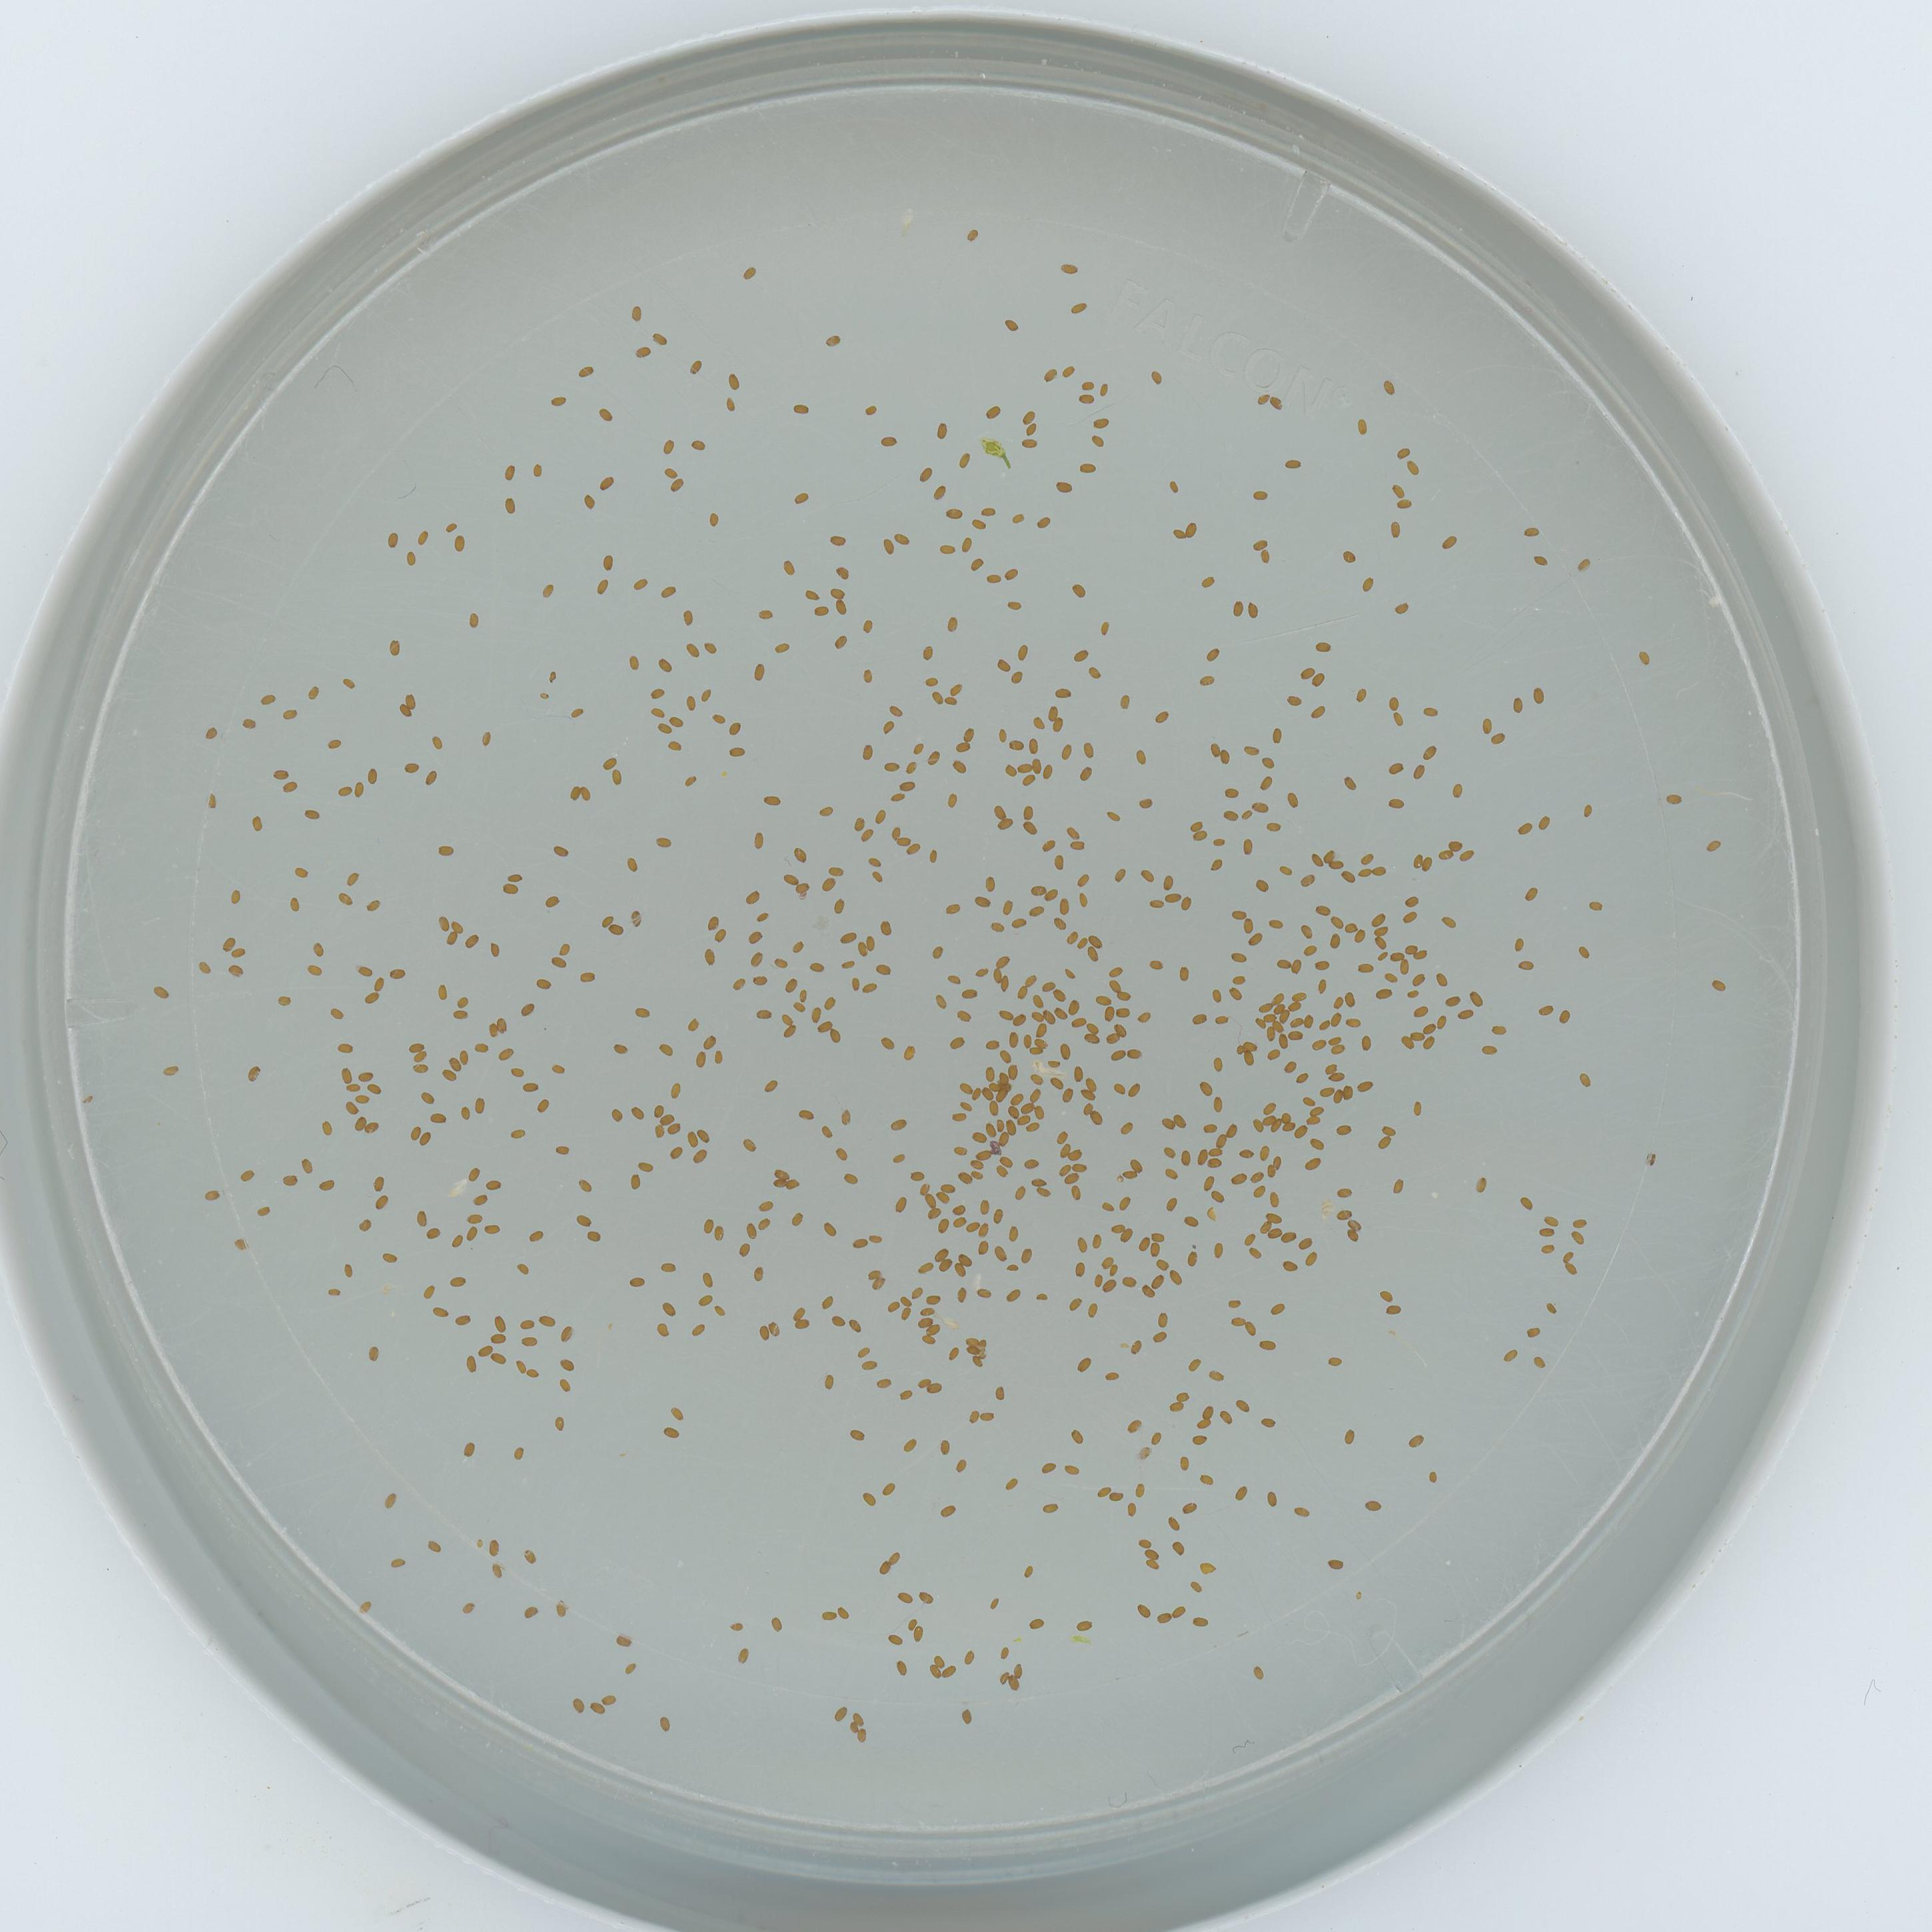seed: (840, 925, 860, 945), (501, 494, 520, 513), (660, 1299, 679, 1318), (1039, 366, 1058, 386), (692, 1049, 709, 1070), (1069, 299, 1092, 315), (626, 303, 646, 320), (655, 656, 674, 674), (747, 925, 766, 943), (750, 663, 770, 681), (883, 757, 902, 775), (955, 453, 975, 471), (575, 1208, 593, 1228), (699, 1270, 718, 1288), (518, 1000, 538, 1017), (630, 1102, 648, 1122), (1529, 686, 1548, 704), (1047, 855, 1067, 872), (1251, 798, 1270, 816), (1401, 893, 1421, 911), (1284, 692, 1304, 709), (1003, 596, 1023, 614), (1168, 525, 1187, 543), (1003, 1284, 1023, 1302), (1168, 1539, 1187, 1557), (1228, 1168, 1247, 1185), (1302, 1154, 1322, 1171), (1373, 984, 1392, 1001), (1166, 1269, 1185, 1286), (1279, 1254, 1299, 1272), (1014, 1246, 1033, 1263), (1099, 1001, 1116, 1021), (1042, 1007, 1060, 1026), (832, 897, 849, 915), (600, 554, 617, 571), (386, 639, 403, 656), (745, 890, 763, 908), (651, 329, 669, 347), (662, 437, 679, 455), (702, 639, 720, 656), (931, 483, 948, 501), (690, 435, 708, 453), (830, 584, 847, 602), (764, 791, 782, 809), (540, 582, 557, 600), (501, 462, 518, 479), (702, 947, 720, 964), (518, 1315, 536, 1332), (497, 1042, 515, 1060), (948, 1033, 966, 1051), (520, 1548, 538, 1566), (895, 1589, 913, 1606), (892, 1113, 909, 1131), (821, 1219, 839, 1237), (318, 1118, 336, 1136), (449, 1272, 467, 1290), (520, 1332, 538, 1350), (686, 1016, 704, 1033), (901, 1042, 918, 1060), (893, 1194, 911, 1212), (462, 1353, 479, 1371), (370, 1173, 387, 1191), (297, 1155, 315, 1173), (1017, 803, 1035, 821), (1509, 695, 1527, 713), (1421, 743, 1438, 761), (1074, 764, 1092, 782), (1024, 736, 1042, 754), (1060, 258, 1077, 276), (1440, 533, 1458, 550), (1283, 793, 1300, 810), (1053, 476, 1070, 494), (1086, 929, 1104, 947), (1313, 901, 1330, 918), (1477, 718, 1495, 736), (1522, 522, 1539, 540), (1369, 909, 1387, 927), (1079, 741, 1097, 759), (1299, 872, 1316, 890), (1352, 418, 1369, 435), (1338, 869, 1355, 886), (1637, 649, 1654, 667), (1182, 1210, 1200, 1228), (1281, 1056, 1299, 1074), (1028, 991, 1046, 1008), (1039, 1499, 1056, 1516), (1269, 1299, 1286, 1316), (1233, 1394, 1251, 1412), (1070, 1260, 1088, 1277), (1152, 1309, 1169, 1327), (1191, 1612, 1208, 1629), (1258, 1334, 1276, 1352), (1263, 1490, 1281, 1507), (1134, 1601, 1152, 1619), (632, 575, 651, 591), (833, 600, 853, 616), (950, 759, 970, 775), (793, 847, 812, 863), (334, 1037, 354, 1053), (614, 1633, 633, 1649), (663, 1422, 683, 1438), (426, 1109, 446, 1125), (448, 1053, 464, 1072), (959, 1251, 975, 1270), (1019, 821, 1039, 837), (1228, 947, 1247, 962), (1408, 764, 1428, 780), (1196, 1077, 1215, 1093), (1074, 1355, 1093, 1371), (1028, 1171, 1047, 1187), (1394, 959, 1414, 975), (1263, 1208, 1283, 1224), (952, 740, 973, 754), (745, 1221, 759, 1242), (271, 766, 288, 782), (860, 745, 878, 761), (681, 695, 699, 711), (219, 934, 235, 952), (437, 842, 455, 858), (384, 531, 402, 547), (598, 474, 616, 490), (918, 464, 934, 481), (945, 506, 962, 522), (881, 432, 899, 448), (669, 713, 686, 729), (945, 899, 961, 916), (934, 421, 950, 439), (828, 863, 846, 879), (874, 809, 892, 824), (428, 734, 446, 750), (633, 343, 651, 359), (888, 702, 906, 718), (421, 770, 439, 786), (580, 494, 598, 510), (879, 918, 895, 936), (258, 690, 276, 706), (402, 759, 419, 775), (830, 531, 847, 547), (464, 931, 481, 947), (793, 400, 810, 416), (939, 540, 957, 556), (310, 941, 327, 957), (487, 939, 502, 957), (568, 704, 586, 720), (893, 529, 911, 545), (202, 725, 219, 741), (609, 770, 626, 786), (685, 642, 702, 658), (336, 892, 354, 908), (784, 872, 801, 888), (596, 407, 614, 423), (649, 686, 667, 702), (577, 363, 594, 379), (782, 559, 798, 577), (660, 584, 678, 600), (879, 538, 897, 554), (557, 939, 575, 955), (725, 373, 743, 389), (679, 609, 695, 626), (881, 720, 899, 736), (860, 830, 878, 846), (821, 878, 839, 893), (364, 768, 380, 786), (835, 564, 853, 580), (750, 833, 768, 849), (727, 720, 745, 736), (628, 909, 646, 925), (538, 1311, 556, 1327), (472, 1037, 490, 1053), (490, 1330, 508, 1346), (589, 1700, 607, 1716), (833, 1704, 849, 1721), (350, 1113, 366, 1131), (483, 1219, 499, 1237), (849, 1424, 867, 1440), (784, 977, 801, 993), (455, 1309, 472, 1325), (372, 1192, 389, 1208), (901, 1437, 918, 1453), (932, 993, 950, 1008), (757, 1215, 775, 1231), (821, 1608, 839, 1624), (688, 1320, 706, 1336), (559, 1355, 577, 1371), (821, 1373, 839, 1389), (465, 1208, 483, 1224), (909, 1166, 927, 1182), (557, 1325, 575, 1341), (633, 1003, 651, 1019), (471, 1095, 488, 1111), (522, 1603, 540, 1619), (660, 1258, 678, 1274), (380, 1491, 398, 1507), (881, 1481, 899, 1497), (833, 1145, 851, 1161), (425, 1223, 442, 1238), (886, 1631, 904, 1647), (655, 1320, 672, 1336), (862, 1490, 879, 1506), (432, 1304, 449, 1320), (318, 1175, 334, 1192), (770, 1615, 786, 1633), (628, 1274, 646, 1290), (460, 1442, 478, 1458), (892, 1660, 909, 1675), (522, 1077, 540, 1093), (916, 1589, 934, 1605), (936, 1438, 952, 1456), (736, 1647, 754, 1663), (702, 1031, 720, 1047), (862, 1357, 879, 1373), (570, 1697, 587, 1713), (492, 1315, 510, 1330), (584, 1228, 602, 1244), (464, 1164, 481, 1180), (639, 1155, 656, 1171), (697, 1290, 715, 1306), (669, 1081, 685, 1099), (448, 1233, 465, 1249), (508, 1122, 525, 1138), (695, 1125, 713, 1141), (782, 1023, 800, 1039), (800, 1104, 816, 1122), (699, 1215, 717, 1231), (892, 1148, 909, 1164), (925, 1203, 943, 1219), (934, 1215, 950, 1233), (741, 1136, 759, 1152), (524, 1366, 541, 1382), (326, 1283, 341, 1300), (485, 1541, 502, 1557), (828, 1026, 844, 1044), (925, 1288, 943, 1304), (552, 1601, 570, 1617), (159, 1060, 177, 1076), (957, 1079, 973, 1097), (957, 1097, 973, 1115), (1258, 755, 1276, 771), (1077, 458, 1095, 474), (1138, 869, 1155, 885), (1276, 863, 1293, 879), (1053, 685, 1070, 701), (1297, 663, 1315, 679), (1001, 317, 1019, 333), (1090, 414, 1108, 430), (1325, 932, 1343, 948), (1244, 600, 1260, 617), (1253, 878, 1270, 893), (991, 805, 1008, 821), (1359, 577, 1376, 593), (1182, 520, 1198, 538), (1008, 915, 1026, 931), (1440, 913, 1458, 929), (1389, 481, 1407, 497), (1242, 741, 1260, 757), (1516, 821, 1534, 837), (1049, 915, 1067, 931), (985, 403, 1003, 419), (994, 656, 1012, 672), (1157, 876, 1175, 892), (1039, 837, 1056, 853), (994, 950, 1012, 966), (1014, 644, 1031, 660), (1387, 520, 1403, 538), (1069, 582, 1086, 598), (1007, 738, 1024, 754), (1378, 379, 1396, 395), (1256, 775, 1274, 791), (1309, 704, 1327, 720), (1056, 743, 1074, 759), (1297, 924, 1315, 939), (1300, 941, 1318, 957), (1389, 713, 1407, 729), (1033, 513, 1051, 529), (1136, 796, 1154, 812), (1536, 816, 1553, 832), (1283, 456, 1300, 472), (1405, 458, 1421, 476), (1198, 573, 1215, 589), (1394, 497, 1412, 513), (1028, 881, 1046, 897), (1490, 732, 1507, 748), (1269, 727, 1284, 745), (1267, 915, 1284, 931), (1221, 809, 1238, 824), (1228, 600, 1246, 616), (1309, 672, 1327, 688), (1019, 407, 1037, 423), (1394, 442, 1412, 458), (1447, 782, 1465, 798), (1063, 823, 1079, 840), (1028, 715, 1046, 731), (1392, 600, 1410, 616), (1238, 918, 1256, 934), (1083, 947, 1100, 962), (1329, 858, 1346, 874), (1307, 853, 1325, 869), (1313, 957, 1330, 973), (1120, 1272, 1138, 1288), (984, 1033, 1001, 1049), (1525, 1323, 1543, 1339), (1389, 1177, 1407, 1192), (1474, 1175, 1490, 1192), (1341, 991, 1359, 1007), (1231, 1484, 1249, 1500), (1444, 993, 1461, 1008), (1116, 1118, 1134, 1134), (1490, 1021, 1507, 1037), (1070, 1235, 1088, 1251), (1224, 1295, 1242, 1311), (1099, 1198, 1116, 1214), (1467, 989, 1484, 1005), (1407, 1431, 1424, 1447), (991, 1385, 1008, 1401), (1364, 1497, 1382, 1513), (1198, 1559, 1215, 1575), (1334, 1182, 1352, 1198), (1191, 1008, 1207, 1026), (1327, 1555, 1345, 1571), (1065, 1295, 1083, 1311), (1074, 1617, 1092, 1633), (1150, 1224, 1166, 1242), (1180, 1500, 1198, 1516), (1569, 1228, 1587, 1244), (1339, 1428, 1357, 1444), (1026, 1617, 1044, 1633), (1208, 1054, 1226, 1070), (1148, 1272, 1166, 1288), (1297, 1233, 1315, 1249), (1008, 1663, 1026, 1679), (1164, 1514, 1182, 1530), (1254, 1145, 1272, 1161), (1003, 1224, 1021, 1240), (1412, 1000, 1430, 1016), (1157, 1115, 1175, 1131), (1502, 1346, 1520, 1362), (1265, 1044, 1281, 1062), (1562, 1260, 1580, 1276), (1093, 989, 1111, 1005), (1382, 970, 1399, 985), (1357, 1033, 1375, 1049), (1150, 1329, 1168, 1345), (1456, 1005, 1474, 1021), (1010, 1010, 1028, 1026), (1200, 1118, 1217, 1134), (1146, 1430, 1164, 1445), (1334, 1120, 1352, 1136), (1102, 1368, 1120, 1384), (1237, 1143, 1254, 1159), (1242, 1320, 1260, 1336), (1102, 1030, 1120, 1046), (1187, 1578, 1205, 1594), (1247, 1665, 1265, 1681), (1265, 1191, 1283, 1207), (1113, 1021, 1131, 1037), (1208, 1095, 1226, 1111), (1088, 1109, 1106, 1125), (1269, 1152, 1284, 1169), (1088, 1230, 1106, 1246), (1051, 1003, 1069, 1019), (1249, 1184, 1267, 1200), (1288, 1028, 1306, 1044), (1113, 1003, 1131, 1019), (1334, 1203, 1352, 1219), (609, 1104, 623, 1123), (628, 1171, 642, 1191), (1070, 648, 1090, 662), (1445, 837, 1465, 851), (961, 536, 975, 556), (1327, 1069, 1346, 1083), (479, 731, 495, 747), (343, 872, 359, 888), (292, 865, 308, 881), (550, 393, 566, 409), (402, 550, 418, 566), (651, 706, 667, 722), (918, 644, 934, 660), (750, 950, 766, 966), (594, 579, 610, 594), (304, 685, 320, 701), (340, 676, 356, 692), (414, 529, 430, 545), (598, 911, 614, 927), (303, 807, 318, 823), (929, 690, 945, 706), (451, 536, 467, 552), (759, 607, 775, 623), (906, 842, 922, 858), (667, 740, 683, 755), (465, 612, 481, 628), (248, 817, 264, 833), (451, 918, 467, 934), (704, 915, 720, 931), (729, 745, 745, 761), (833, 633, 849, 649), (722, 396, 738, 412), (336, 784, 352, 800), (602, 755, 617, 771), (826, 331, 842, 347), (860, 617, 876, 633), (580, 786, 596, 801), (775, 640, 791, 656), (625, 858, 640, 874), (741, 265, 757, 281), (945, 793, 961, 809), (435, 915, 451, 931), (281, 780, 297, 796), (869, 870, 885, 886), (819, 803, 835, 819), (656, 722, 672, 738), (791, 938, 807, 954), (925, 847, 941, 863), (863, 402, 879, 418), (867, 853, 883, 869), (683, 773, 699, 789), (669, 476, 685, 492), (395, 702, 410, 718), (566, 786, 582, 801), (203, 794, 219, 810), (694, 1146, 709, 1162), (327, 1005, 343, 1021), (669, 1143, 685, 1159), (817, 1017, 833, 1033), (915, 1373, 931, 1389), (669, 1403, 685, 1419), (878, 1560, 893, 1576), (941, 1665, 957, 1681), (419, 1088, 435, 1104), (356, 1217, 372, 1233), (426, 1537, 442, 1553), (844, 1169, 860, 1185), (832, 1313, 847, 1329), (557, 1376, 573, 1392), (464, 1224, 479, 1240), (789, 1210, 805, 1226), (791, 1304, 807, 1320), (487, 1177, 502, 1192), (472, 1191, 488, 1207), (819, 1123, 835, 1139), (759, 1196, 775, 1212), (909, 1626, 925, 1642), (237, 1166, 253, 1182), (853, 1233, 869, 1249), (658, 1040, 674, 1056), (757, 1005, 773, 1021), (849, 1316, 865, 1332), (879, 1033, 895, 1049), (847, 975, 863, 991), (552, 1415, 568, 1431), (380, 1249, 396, 1265), (931, 1651, 947, 1667), (441, 1067, 456, 1083), (152, 982, 168, 998), (750, 1265, 766, 1281), (656, 1716, 672, 1732), (421, 1283, 437, 1299), (389, 966, 405, 982), (764, 1077, 780, 1093), (513, 1357, 529, 1373), (435, 984, 451, 1000), (869, 1230, 885, 1246), (515, 1260, 531, 1276), (340, 1261, 356, 1277), (510, 1063, 525, 1079), (255, 1201, 271, 1217), (364, 1345, 380, 1361), (405, 1123, 421, 1139), (281, 1171, 297, 1187), (370, 975, 386, 991), (821, 1293, 837, 1309), (527, 1226, 543, 1242), (453, 993, 469, 1008), (863, 978, 879, 994), (389, 1553, 405, 1569), (939, 1502, 955, 1518), (888, 1550, 904, 1566), (856, 1343, 872, 1359), (414, 1208, 430, 1224), (494, 1016, 510, 1031), (651, 1100, 667, 1116), (456, 1104, 472, 1120), (729, 1619, 745, 1635), (839, 1109, 855, 1125), (203, 1185, 219, 1201), (713, 1224, 729, 1240), (510, 1445, 525, 1461), (899, 1292, 915, 1307), (490, 1562, 506, 1578), (338, 1065, 354, 1081), (246, 1063, 262, 1079), (952, 1141, 968, 1157), (1023, 421, 1039, 437), (1387, 761, 1403, 777), (998, 901, 1014, 916), (1265, 821, 1281, 837), (1198, 672, 1214, 688), (1523, 886, 1539, 902), (1315, 639, 1330, 655), (987, 918, 1003, 934), (1058, 363, 1074, 379), (1251, 487, 1267, 502), (1085, 663, 1100, 679), (1511, 936, 1527, 952), (982, 878, 998, 893), (1352, 688, 1368, 704), (1460, 849, 1476, 865), (1357, 867, 1373, 883), (1359, 849, 1375, 865), (1074, 893, 1090, 909), (1223, 784, 1238, 800), (968, 557, 984, 573), (1154, 708, 1169, 724), (980, 502, 996, 518), (1587, 897, 1603, 913), (1132, 748, 1148, 764), (975, 893, 991, 909), (1054, 899, 1070, 915), (1095, 380, 1111, 396), (1115, 694, 1131, 709), (1341, 548, 1357, 564), (1580, 803, 1596, 819), (1178, 895, 1194, 911), (1203, 646, 1219, 662), (1667, 791, 1683, 807), (1037, 764, 1053, 780), (1343, 918, 1359, 934), (1401, 909, 1417, 925), (1371, 863, 1387, 879), (1095, 621, 1111, 637), (1352, 927, 1368, 943), (1146, 368, 1162, 384), (1254, 389, 1270, 405), (1203, 743, 1219, 759), (1164, 478, 1180, 494), (1238, 839, 1254, 855), (1341, 775, 1357, 791), (1322, 847, 1338, 863), (961, 727, 977, 743), (1433, 971, 1449, 987), (1106, 1219, 1122, 1235), (1345, 1012, 1361, 1028), (1329, 1008, 1345, 1024), (1242, 1230, 1258, 1246), (1424, 1468, 1440, 1484), (993, 1244, 1008, 1260), (1069, 1428, 1085, 1444), (1136, 1532, 1152, 1548), (1711, 977, 1727, 993), (1302, 1249, 1318, 1265), (1223, 1120, 1238, 1136), (1560, 1247, 1576, 1263), (1207, 1368, 1223, 1384), (1260, 1414, 1276, 1430), (1530, 1353, 1546, 1369), (1039, 1458, 1054, 1474), (1028, 1069, 1044, 1085), (1228, 1313, 1244, 1329), (1136, 1008, 1152, 1024), (1212, 1131, 1228, 1146), (1247, 1116, 1263, 1132), (975, 1238, 991, 1254), (1481, 1039, 1497, 1054), (1171, 1603, 1187, 1619), (1357, 1076, 1373, 1092), (1026, 1085, 1042, 1100), (998, 1047, 1014, 1063), (1380, 1120, 1396, 1136), (1408, 1099, 1424, 1115), (1226, 985, 1242, 1001), (1058, 1086, 1074, 1102), (1162, 1166, 1178, 1182), (1185, 1355, 1201, 1371), (975, 1196, 991, 1212), (1435, 1012, 1451, 1028), (1200, 1173, 1215, 1189), (1053, 1127, 1069, 1143), (1125, 1417, 1141, 1433), (1198, 1470, 1214, 1486), (1173, 1387, 1189, 1403), (1046, 1074, 1062, 1090), (1208, 1187, 1224, 1203), (1378, 1286, 1394, 1302), (1217, 1408, 1233, 1424), (1173, 1113, 1189, 1129), (1116, 1192, 1132, 1208), (1039, 977, 1054, 993), (1327, 1352, 1343, 1368), (1003, 1476, 1019, 1491), (1023, 1154, 1039, 1169), (991, 1207, 1007, 1223), (1293, 1504, 1309, 1520), (1208, 987, 1224, 1003), (1578, 1069, 1594, 1085), (1127, 1081, 1143, 1097), (1012, 1184, 1028, 1200), (985, 1596, 1001, 1612), (1100, 1277, 1116, 1293), (1198, 1403, 1214, 1419), (1184, 1249, 1200, 1265), (1125, 1044, 1141, 1060), (1131, 1483, 1146, 1499), (1109, 1079, 1125, 1095), (1327, 993, 1343, 1008), (985, 1099, 1001, 1115), (1208, 1240, 1224, 1256), (1146, 1242, 1162, 1258), (1177, 1148, 1192, 1164), (1254, 1217, 1270, 1233), (1106, 975, 1122, 991), (1077, 1100, 1093, 1116), (1134, 1445, 1150, 1461), (1007, 1062, 1023, 1077), (1251, 1014, 1267, 1030), (1300, 1010, 1316, 1026), (1644, 1150, 1660, 1166), (1277, 1008, 1293, 1024), (754, 909, 771, 924), (626, 656, 644, 671), (858, 669, 876, 683), (899, 778, 916, 793), (605, 922, 623, 936), (947, 681, 964, 695), (699, 688, 717, 702), (794, 490, 812, 504), (890, 793, 908, 807), (706, 513, 724, 527), (490, 1352, 508, 1366), (361, 991, 379, 1005), (534, 977, 552, 991), (939, 1178, 957, 1192), (918, 1260, 936, 1274), (356, 1065, 373, 1079), (794, 1318, 812, 1332), (909, 1283, 927, 1297), (927, 1380, 945, 1394), (577, 1177, 594, 1191), (711, 1047, 725, 1065), (460, 1599, 478, 1614), (364, 1079, 382, 1093), (407, 1037, 425, 1051), (736, 1242, 754, 1256), (458, 1047, 472, 1065), (934, 1189, 952, 1203), (196, 957, 211, 975), (1026, 904, 1044, 918), (1008, 510, 1026, 524), (1019, 773, 1037, 787), (984, 571, 1001, 586), (1228, 906, 1246, 920), (996, 819, 1014, 833), (1327, 915, 1345, 929), (1437, 849, 1454, 863), (1530, 552, 1548, 566), (1706, 839, 1723, 853), (1008, 671, 1026, 685), (1371, 936, 1389, 950), (1067, 839, 1085, 853), (1077, 377, 1095, 391), (1247, 931, 1265, 945), (1292, 957, 1306, 975), (1081, 1031, 1099, 1046), (1212, 1012, 1230, 1026), (1537, 1224, 1555, 1238), (1062, 1461, 1079, 1476), (1261, 1099, 1279, 1113), (1062, 1171, 1079, 1185), (1537, 1001, 1555, 1016), (1543, 1210, 1560, 1224), (1125, 1155, 1143, 1169), (1246, 1246, 1263, 1260), (1384, 1302, 1401, 1316), (1115, 987, 1132, 1001), (1355, 961, 1373, 975), (1162, 1196, 1180, 1210), (1307, 1136, 1325, 1150), (1054, 1042, 1072, 1056), (1518, 1196, 1536, 1210), (1322, 1060, 1339, 1074), (1346, 1217, 1364, 1231), (1192, 1417, 1210, 1431), (1003, 1260, 1021, 1274), (1067, 1185, 1085, 1200), (1143, 1560, 1161, 1575), (1309, 1035, 1327, 1049), (962, 1649, 977, 1667), (1116, 1228, 1134, 1242), (1063, 998, 1081, 1012), (1421, 1019, 1438, 1033), (1033, 1021, 1047, 1039), (961, 1709, 975, 1727), (839, 959, 858, 971), (876, 962, 895, 975), (1325, 1031, 1345, 1044), (924, 674, 939, 688), (287, 897, 303, 911), (442, 931, 458, 945), (814, 605, 830, 619), (853, 817, 867, 833), (230, 947, 246, 961), (713, 927, 729, 941), (502, 883, 518, 897), (545, 895, 561, 909), (364, 897, 380, 911), (909, 741, 925, 755), (326, 736, 341, 750), (352, 782, 366, 798), (226, 890, 242, 904), (656, 835, 672, 849), (688, 359, 704, 373), (925, 750, 941, 764), (904, 761, 920, 775), (805, 587, 821, 602), (943, 616, 959, 630), (281, 708, 297, 722), (554, 844, 570, 858), (442, 520, 458, 534), (241, 717, 257, 731), (663, 464, 678, 479), (711, 713, 727, 727), (863, 934, 878, 950), (713, 1304, 729, 1318), (823, 994, 839, 1008), (343, 1099, 359, 1113), (550, 1060, 566, 1074), (780, 1008, 796, 1023), (554, 1141, 570, 1155), (920, 1332, 936, 1346), (451, 1008, 467, 1023), (602, 1691, 617, 1706), (364, 1120, 380, 1134), (612, 1039, 628, 1053), (580, 970, 596, 984), (934, 1244, 950, 1258), (476, 1343, 492, 1357), (878, 1375, 893, 1389), (899, 1387, 915, 1401), (667, 1120, 683, 1134), (899, 1307, 915, 1322), (419, 1131, 433, 1146), (356, 966, 372, 980), (945, 1346, 961, 1361), (276, 993, 292, 1007), (623, 1661, 639, 1675), (731, 977, 747, 991), (793, 1000, 809, 1014), (925, 1665, 941, 1679), (534, 1097, 550, 1111), (412, 1060, 428, 1074), (651, 1123, 667, 1138), (952, 1458, 966, 1474), (685, 1129, 699, 1145), (755, 1325, 771, 1339), (354, 1090, 370, 1104), (904, 1615, 918, 1631), (775, 1162, 791, 1177), (853, 1711, 867, 1727), (483, 1021, 499, 1035), (839, 1605, 853, 1621), (950, 1200, 966, 1214), (950, 1214, 966, 1228), (810, 961, 826, 975), (872, 1276, 888, 1290), (869, 1265, 885, 1279), (950, 1108, 966, 1122), (1077, 393, 1093, 407), (1385, 695, 1401, 709), (1422, 704, 1438, 718), (1021, 437, 1037, 451), (1003, 566, 1019, 580), (1111, 869, 1127, 883), (1387, 796, 1403, 810), (1042, 888, 1058, 902), (970, 517, 985, 531), (1162, 890, 1178, 904), (1104, 810, 1120, 824), (1148, 897, 1164, 911), (1576, 945, 1592, 959), (1576, 557, 1592, 571), (1238, 810, 1254, 824), (1267, 395, 1283, 409), (1210, 835, 1226, 849), (1256, 550, 1272, 564), (1208, 858, 1224, 872), (1088, 435, 1104, 449), (966, 226, 980, 242), (1251, 536, 1267, 550), (1217, 748, 1231, 764), (1074, 874, 1090, 888), (1047, 718, 1063, 732), (1408, 853, 1422, 869), (994, 729, 1010, 743), (1044, 704, 1058, 720), (1191, 1433, 1207, 1447), (1109, 1047, 1125, 1062), (1051, 987, 1067, 1001), (1155, 1612, 1171, 1626), (998, 1152, 1014, 1166), (1376, 1136, 1392, 1150), (1161, 1143, 1177, 1157), (978, 1408, 994, 1422), (1139, 1284, 1155, 1299), (1230, 971, 1246, 985), (1069, 1014, 1085, 1028), (1247, 1168, 1263, 1182), (1088, 1272, 1104, 1286), (1093, 1483, 1109, 1497), (1012, 985, 1028, 1000), (993, 1164, 1008, 1178), (970, 1129, 985, 1143), (1031, 1290, 1047, 1304), (975, 1284, 991, 1299), (1543, 1300, 1559, 1315), (996, 1007, 1012, 1021), (1265, 1226, 1281, 1240), (1152, 1256, 1168, 1270), (1410, 971, 1426, 985), (1106, 1490, 1122, 1504), (1177, 1456, 1192, 1470), (1571, 1214, 1587, 1228), (1557, 1008, 1573, 1023), (996, 1645, 1012, 1660), (1129, 1338, 1143, 1353), (1085, 1302, 1100, 1316), (1192, 1148, 1207, 1164), (1143, 1548, 1159, 1562), (1293, 1070, 1309, 1085), (1021, 1564, 1035, 1580), (1132, 1237, 1148, 1251), (1122, 1502, 1138, 1516), (1046, 1054, 1062, 1069), (1293, 1123, 1309, 1138), (1031, 1104, 1046, 1120), (980, 1067, 996, 1081), (1316, 1014, 1330, 1030), (1408, 1026, 1424, 1040), (1070, 1063, 1085, 1079), (1407, 987, 1422, 1001), (1168, 1401, 1184, 1415), (1281, 1228, 1297, 1242), (1175, 966, 1191, 980), (1008, 1090, 1024, 1104), (982, 1122, 998, 1136), (1028, 1007, 1044, 1021), (975, 966, 991, 980), (1067, 1146, 1083, 1161), (1019, 1030, 1033, 1046), (1231, 1039, 1246, 1054), (1242, 1035, 1258, 1049), (1083, 1074, 1099, 1088), (1263, 1162, 1277, 1178), (1077, 1086, 1093, 1100), (1097, 1253, 1111, 1269), (966, 1407, 980, 1422), (961, 987, 977, 1001), (1309, 1102, 1325, 1116), (970, 1155, 985, 1169), (1203, 1205, 1219, 1219), (978, 1339, 993, 1355), (895, 837, 913, 849), (405, 694, 418, 711), (938, 1258, 955, 1270), (343, 1079, 361, 1092), (810, 1005, 823, 1023), (1187, 819, 1205, 832), (1191, 832, 1208, 844), (1030, 757, 1042, 775), (1033, 1187, 1051, 1200), (1083, 1021, 1100, 1033), (1539, 1242, 1557, 1254), (998, 975, 1010, 993), (1327, 1042, 1345, 1054), (1058, 1141, 1070, 1159), (991, 968, 1003, 985), (1106, 966, 1123, 978), (1005, 1118, 1017, 1136), (1516, 959, 1534, 971), (771, 957, 791, 968), (943, 695, 957, 709), (531, 462, 545, 476), (545, 671, 559, 685), (890, 826, 904, 840), (929, 945, 943, 959), (947, 971, 961, 985), (754, 971, 768, 985), (886, 1299, 901, 1313), (916, 1180, 931, 1194), (787, 1177, 801, 1191), (798, 987, 812, 1001), (856, 1729, 870, 1743), (232, 1235, 246, 1249), (359, 1599, 373, 1614), (472, 1536, 487, 1550), (1403, 939, 1417, 954), (1421, 858, 1435, 872), (1001, 764, 1016, 778), (1389, 948, 1403, 962), (1399, 1035, 1414, 1049), (978, 1221, 993, 1235), (1422, 1035, 1437, 1049), (1240, 1051, 1254, 1065), (1341, 1086, 1355, 1100), (1270, 989, 1284, 1003), (1276, 1033, 1290, 1047), (1007, 1677, 1021, 1691), (971, 1357, 985, 1371), (996, 1086, 1010, 1100), (1007, 1031, 1021, 1046), (1256, 998, 1270, 1012), (966, 1334, 980, 1348), (996, 1131, 1010, 1145), (989, 1079, 1003, 1093), (508, 872, 524, 885), (770, 1320, 782, 1336), (226, 966, 242, 978), (954, 1286, 966, 1302), (660, 1111, 676, 1123), (410, 1049, 426, 1062), (1065, 929, 1077, 945), (1016, 763, 1031, 775), (1300, 1092, 1316, 1104), (1290, 987, 1306, 1000), (1060, 968, 1076, 980), (1070, 1159, 1086, 1171), (996, 1670, 1008, 1686), (1345, 1230, 1361, 1242), (1207, 1155, 1223, 1168), (1024, 1122, 1040, 1134), (1286, 998, 1302, 1010), (1207, 1148, 1223, 1161), (975, 1145, 991, 1157), (550, 955, 568, 966), (916, 1316, 934, 1327), (1373, 925, 1391, 936), (982, 1083, 993, 1100), (793, 892, 810, 902), (855, 943, 869, 955), (920, 1304, 934, 1316), (771, 1177, 786, 1189), (924, 1192, 936, 1207), (1414, 948, 1428, 961), (1277, 955, 1290, 970), (1320, 1085, 1334, 1097), (1023, 973, 1037, 985), (1058, 1162, 1070, 1177), (1003, 1104, 1017, 1116), (1263, 1028, 1276, 1042), (1315, 980, 1329, 993), (966, 1219, 978, 1233), (1106, 1263, 1120, 1276), (1263, 1113, 1277, 1125), (1016, 1113, 1030, 1125), (1028, 1044, 1042, 1056), (998, 1070, 1010, 1085), (1332, 1090, 1345, 1104), (996, 1116, 1008, 1131), (1290, 1017, 1304, 1030), (796, 883, 812, 893), (306, 966, 322, 977), (925, 1323, 941, 1334), (955, 1168, 966, 1184), (1306, 1115, 1322, 1125), (1120, 1168, 1136, 1178), (1270, 1118, 1281, 1134), (1283, 1122, 1299, 1132), (1033, 1039, 1051, 1047), (954, 1263, 966, 1276), (1375, 950, 1387, 962), (1019, 1099, 1031, 1111), (1274, 1021, 1286, 1033), (538, 690, 550, 702), (1076, 936, 1086, 950), (1279, 1111, 1293, 1122), (970, 1169, 984, 1180), (1263, 1014, 1277, 1024), (1146, 957, 1162, 966), (1352, 1589, 1362, 1601), (1274, 1003, 1286, 1014), (847, 1721, 858, 1734), (971, 1088, 982, 1100), (966, 1346, 980, 1355)
